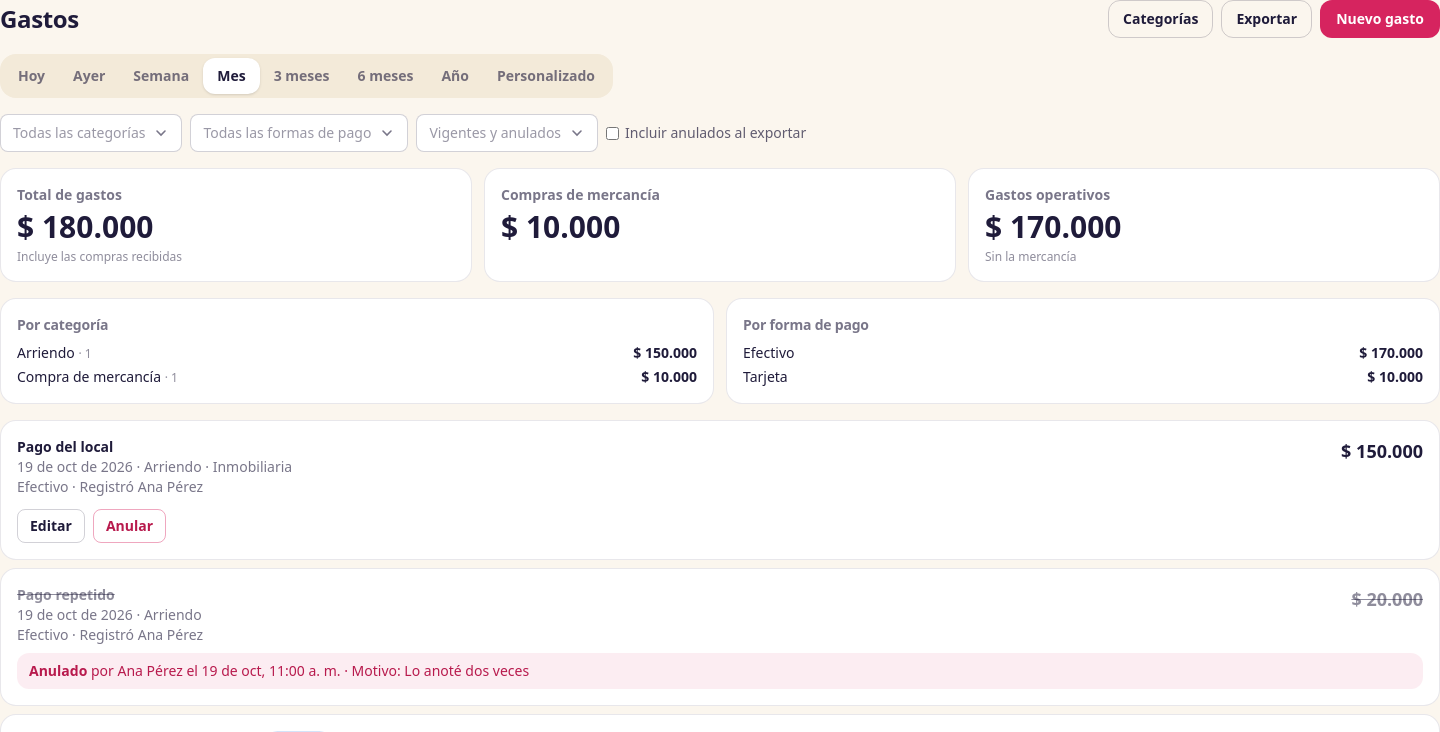
it: Gastos — validaciones del formulario › muestra el error del servidor si rechaza el gasto
The image size is (1440, 732).
Expected: the text "Pago del local" is shown, [17,437,113,456]
Click the button "Nuevo gasto" at x=1380, y=19, box [1320,0,1439,38]
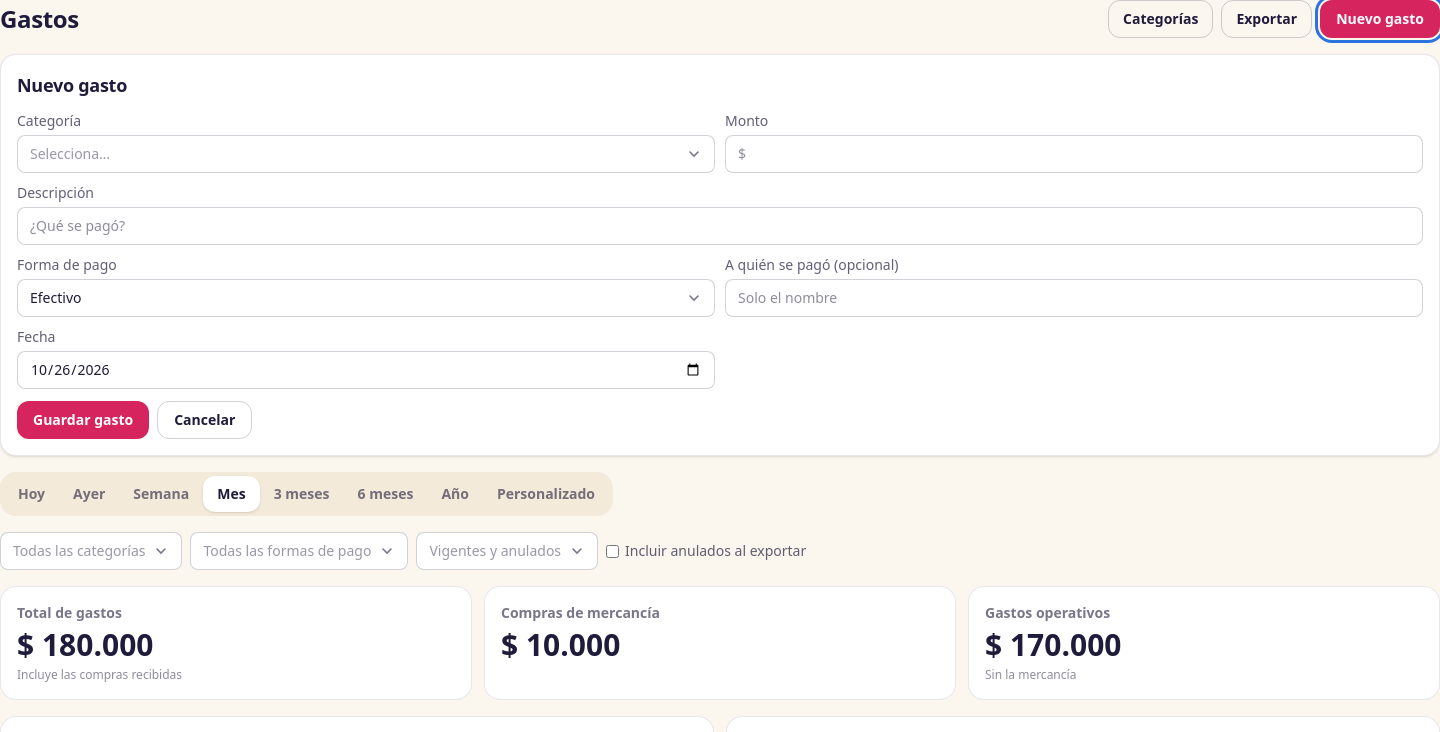
Click the dropdown labelled "Selecciona…" at x=70, y=154, box [17,135,715,173]
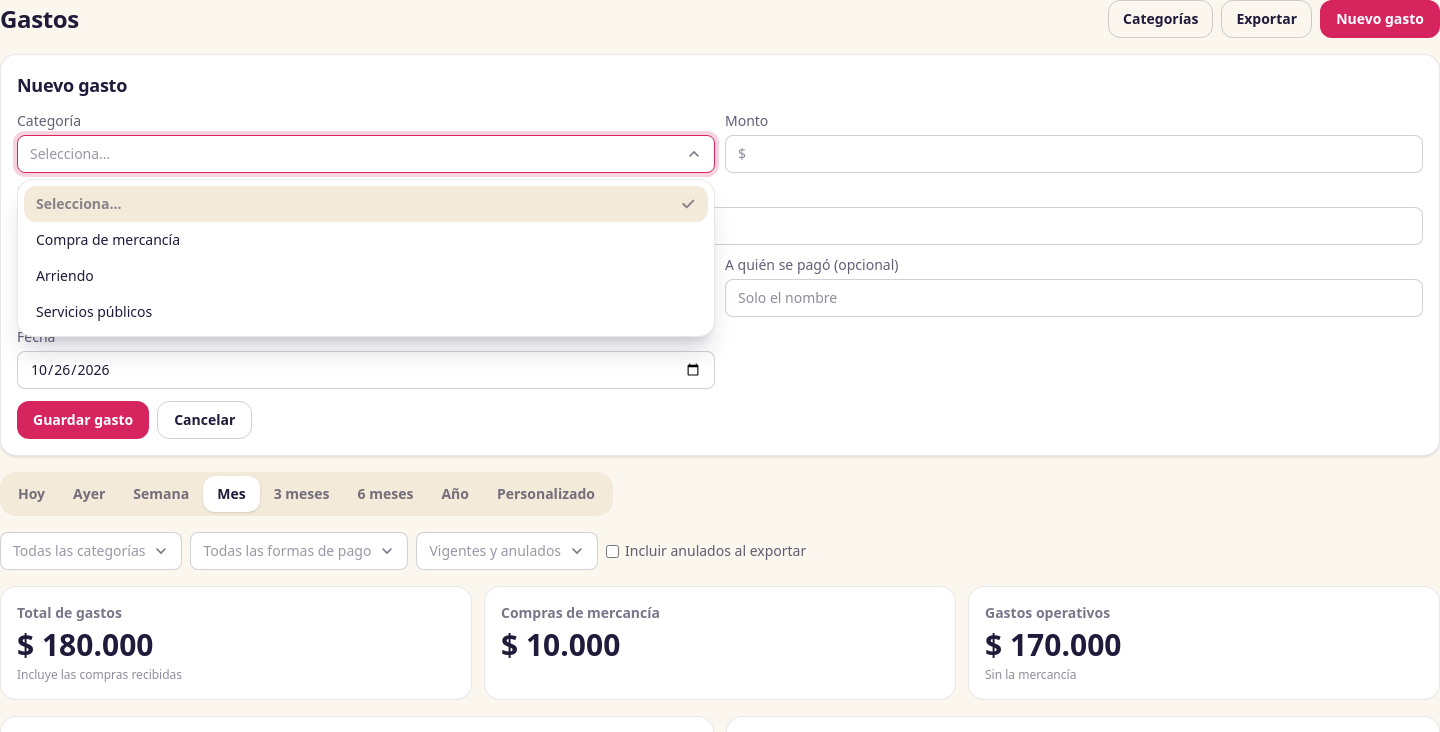
Click the option "Servicios públicos" at x=94, y=312, box [36,302,152,321]
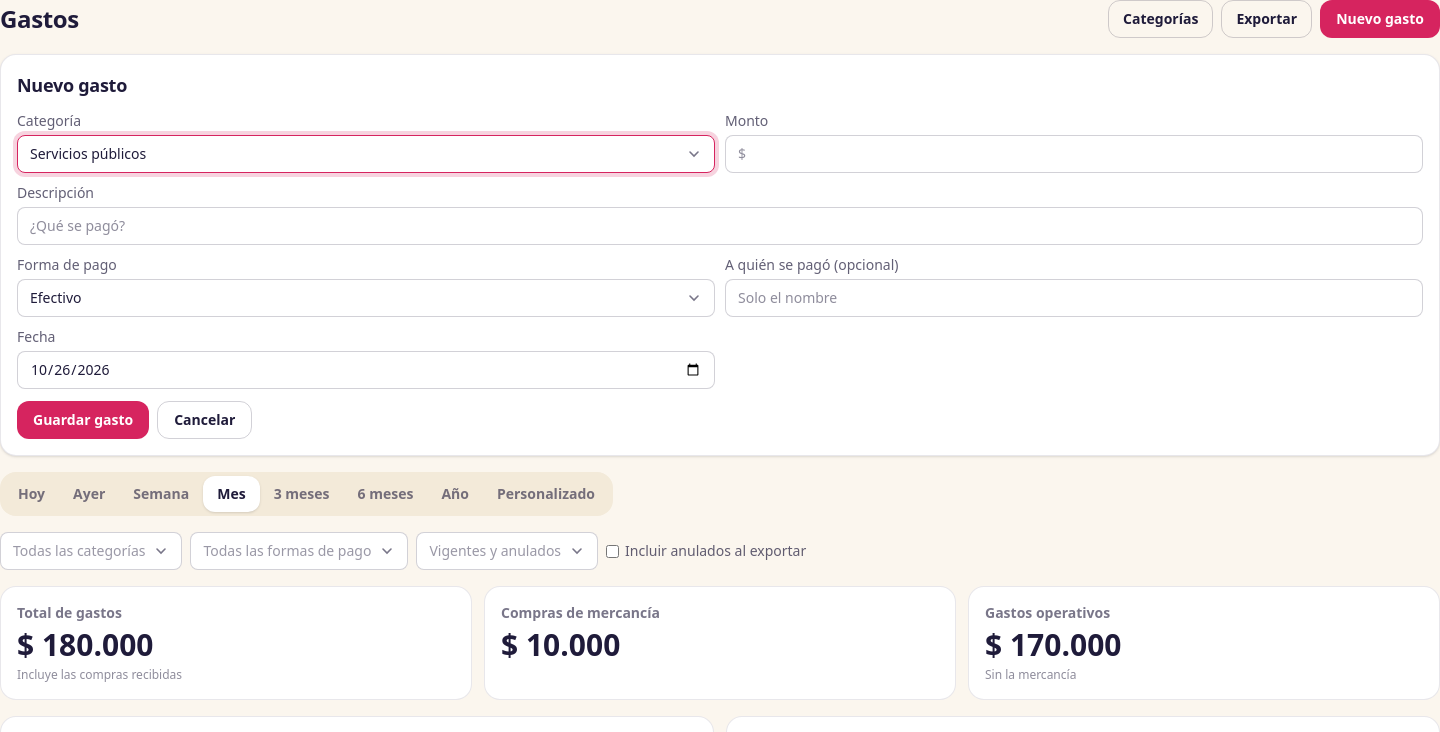
Type "Luz" into the field with placeholder "¿Qué se pagó?" at x=720, y=226, box [17,207,1423,245]
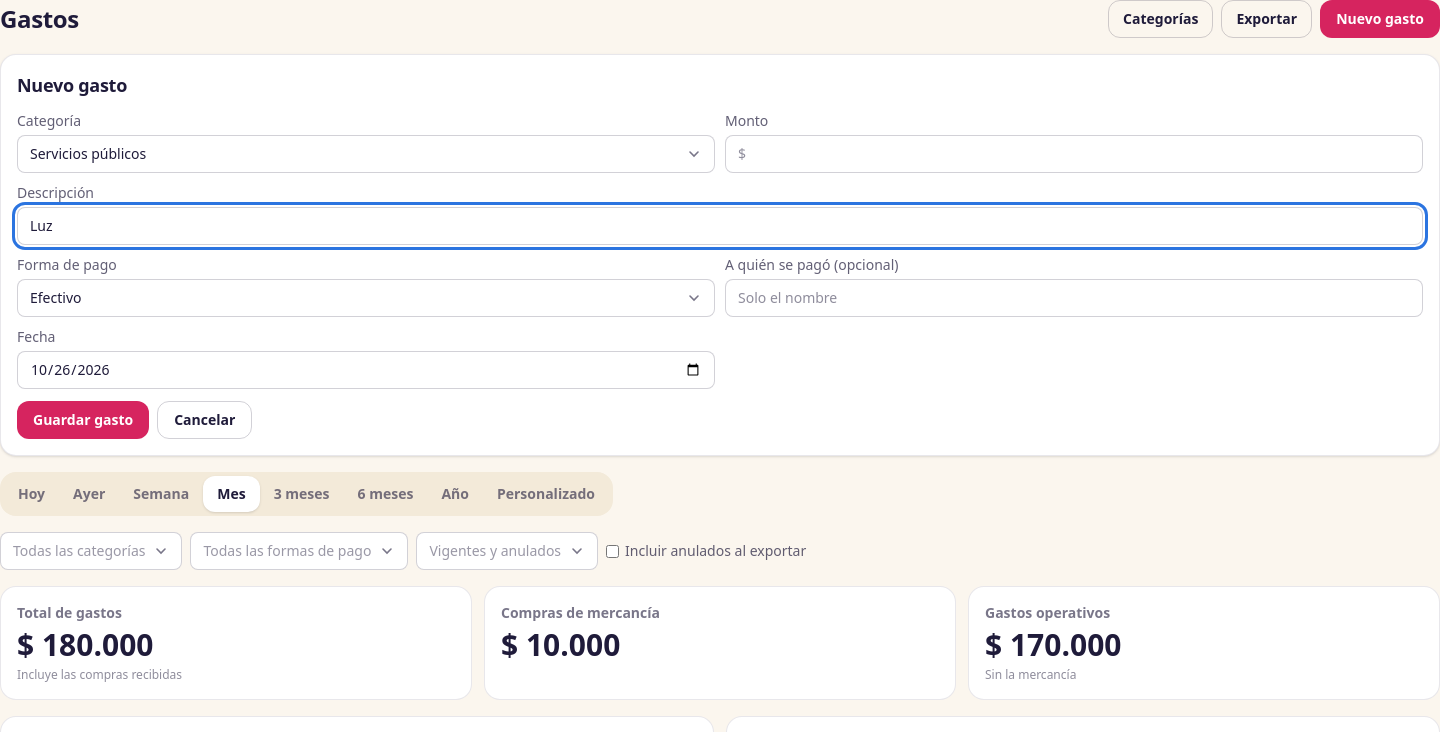
Type "20050" into the number field with placeholder "$" at x=1074, y=154, box [725,135,1423,173]
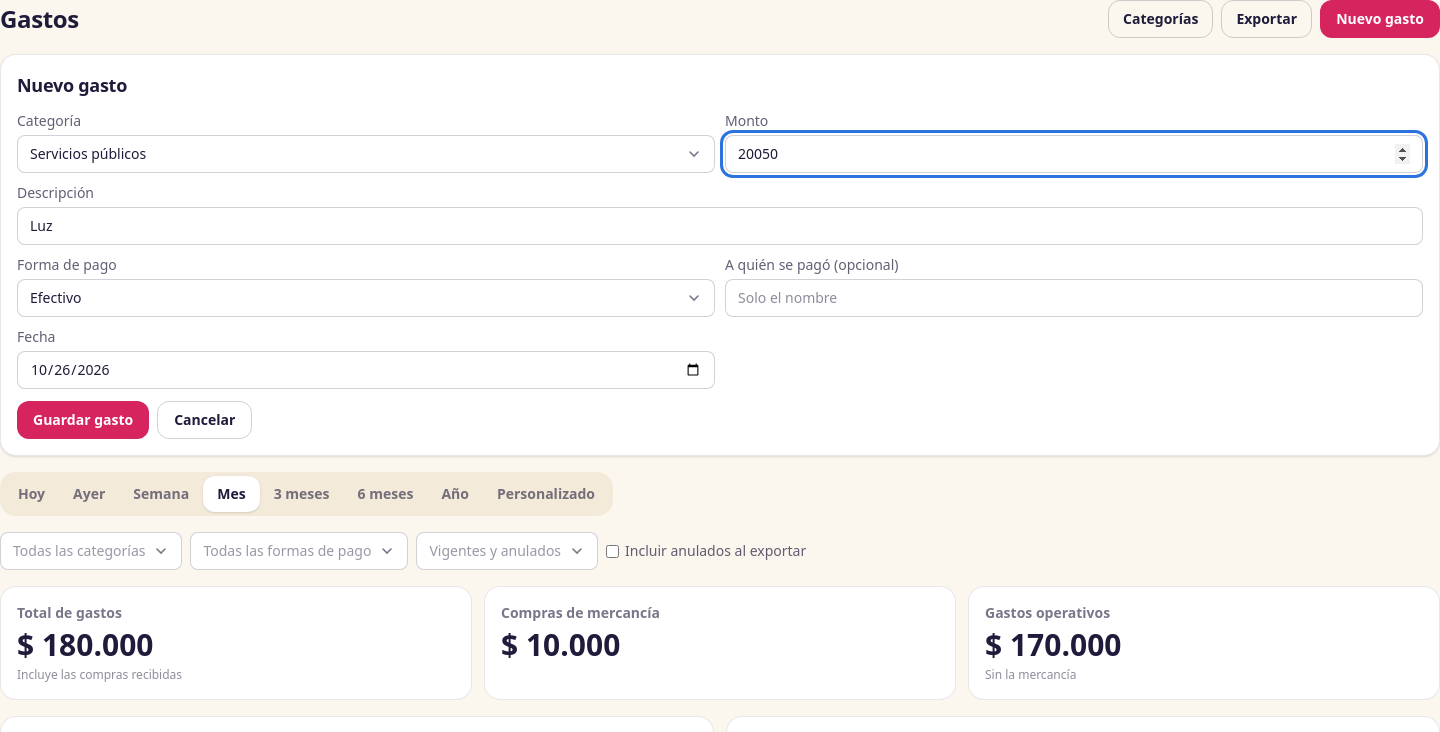
Click the button "Guardar gasto" at x=83, y=420, box [17,401,149,439]
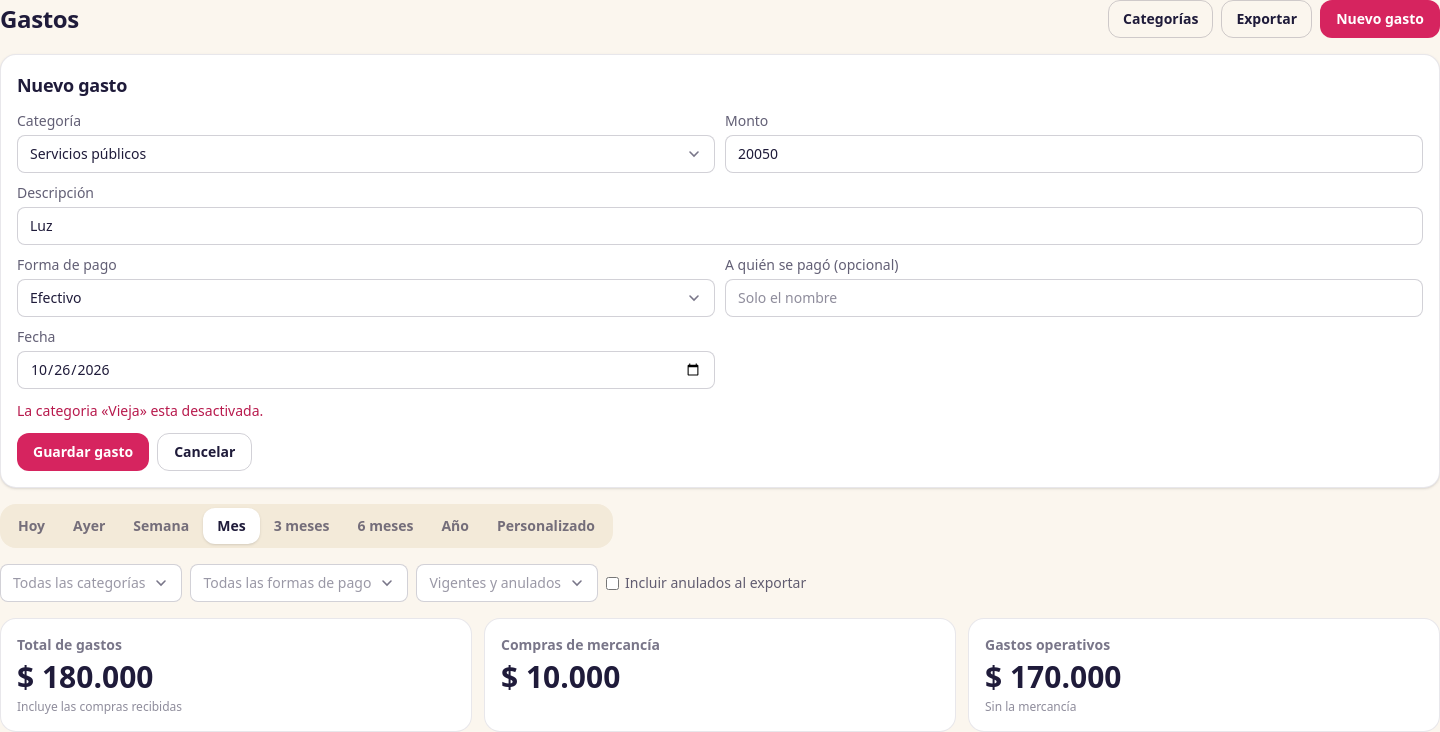
Now the message shows "esta desactivada", box [17,401,263,420]
